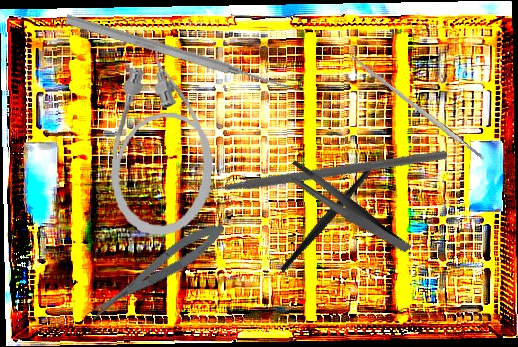Cannula: (106, 35, 223, 241)
Chopper: (176, 33, 450, 300), (251, 144, 412, 273)
Dressing Forceps: (283, 138, 412, 279)
Micro Scissor: (82, 214, 231, 326)
Pusher: (63, 12, 292, 95)
Scalpel Handle: (349, 54, 487, 163)
